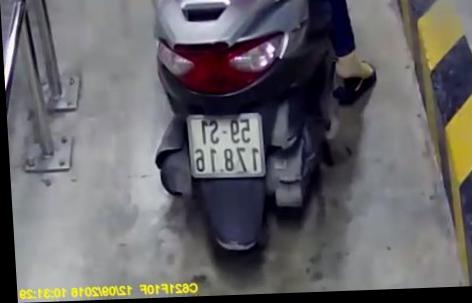License_Plate: (177, 106, 275, 186)
